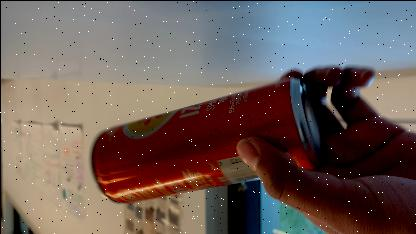Can: (79, 65, 335, 204)
